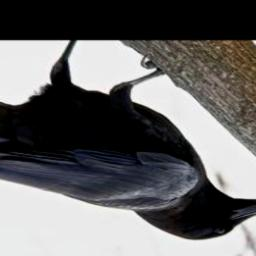Crow: (0, 41, 256, 241)
